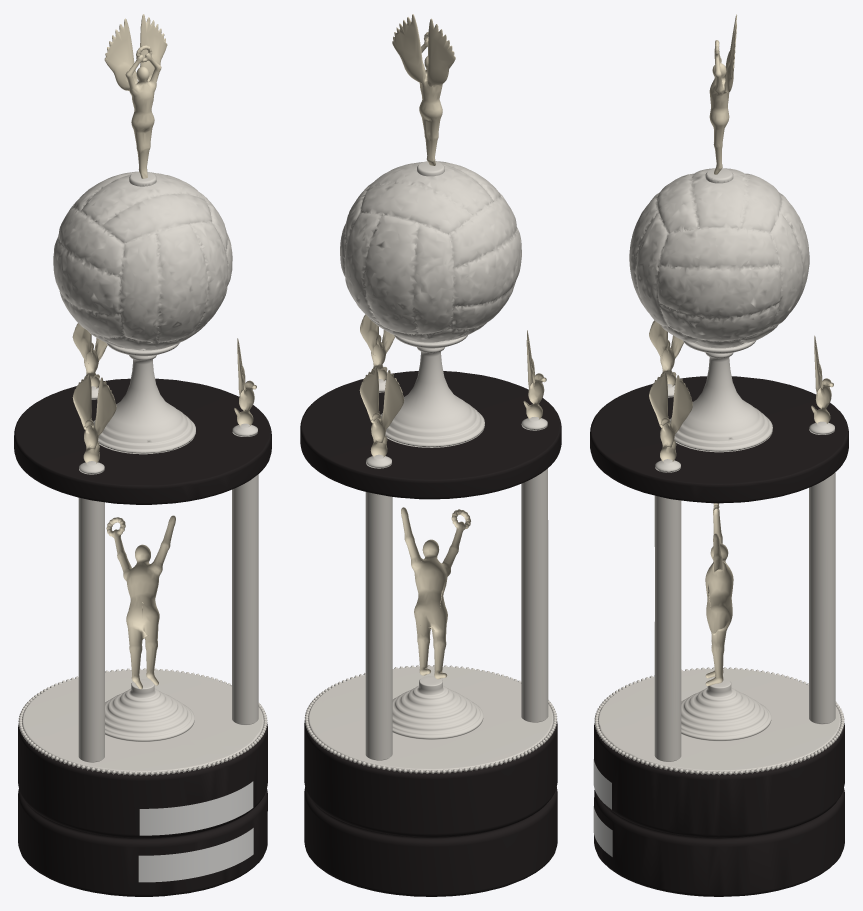
Rendered from copa-campeon-colombiano.glb.
The picture shows the model from 3 angles, left to right: view 1: azimuth 30°, elevation 25°; view 2: azimuth 150°, elevation 25°; view 3: azimuth 270°, elevation 25°; orthographic projection.
Visible parts, largest first — view 1: Balon, Base_negra, Disco_negro, Columnas, Plato_plateado, Pedestal_balon, Atleta, Victoria_alada, Pedestal_atleta, Aguilas, Placa_campeon, Placa_club (+2 smaller); view 2: Base_negra, Balon, Disco_negro, Columnas, Plato_plateado, Pedestal_balon, Atleta, Pedestal_atleta, Victoria_alada, Aguilas, Borde_perlas, Bases_aguilas; view 3: Base_negra, Balon, Disco_negro, Columnas, Plato_plateado, Pedestal_balon, Pedestal_atleta, Aguilas, Atleta, Victoria_alada, Borde_perlas, Bases_aguilas (+2 smaller).
Part boxes in pixels (x1=…): Balon: x1=53, y1=171, x2=232, y2=350; Base_negra: x1=18, y1=724, x2=267, y2=896; Disco_negro: x1=14, y1=378, x2=271, y2=504; Columnas: x1=78, y1=474, x2=258, y2=762; Plato_plateado: x1=22, y1=669, x2=263, y2=774; Pedestal_balon: x1=93, y1=343, x2=195, y2=454; Atleta: x1=106, y1=515, x2=175, y2=689; Victoria_alada: x1=104, y1=14, x2=167, y2=178; Pedestal_atleta: x1=105, y1=679, x2=194, y2=741; Aguilas: x1=72, y1=323, x2=256, y2=463; Placa_campeon: x1=138, y1=828, x2=253, y2=882; Placa_club: x1=139, y1=781, x2=253, y2=835; Base_negra: x1=304, y1=721, x2=557, y2=896; Balon: x1=340, y1=161, x2=521, y2=342; Disco_negro: x1=300, y1=371, x2=561, y2=499; Columnas: x1=365, y1=468, x2=548, y2=760; Plato_plateado: x1=308, y1=666, x2=553, y2=772; Pedestal_balon: x1=381, y1=335, x2=484, y2=447; Atleta: x1=401, y1=507, x2=470, y2=679; Pedestal_atleta: x1=392, y1=676, x2=483, y2=739; Victoria_alada: x1=392, y1=14, x2=455, y2=165; Aguilas: x1=359, y1=314, x2=546, y2=457; Borde_perlas: x1=304, y1=665, x2=557, y2=773; Bases_aguilas: x1=366, y1=379, x2=547, y2=468; Base_negra: x1=594, y1=723, x2=844, y2=896; Balon: x1=629, y1=168, x2=809, y2=348; Disco_negro: x1=590, y1=376, x2=848, y2=503; Columnas: x1=654, y1=472, x2=835, y2=761; Plato_plateado: x1=598, y1=668, x2=840, y2=773; Pedestal_balon: x1=669, y1=340, x2=772, y2=452; Pedestal_atleta: x1=681, y1=678, x2=771, y2=741; Aguilas: x1=649, y1=320, x2=833, y2=461; Atleta: x1=705, y1=503, x2=733, y2=686; Victoria_alada: x1=709, y1=14, x2=736, y2=174; Borde_perlas: x1=594, y1=667, x2=844, y2=775; Bases_aguilas: x1=655, y1=384, x2=834, y2=472.
Bounding box in the file's own units: 0.213 × 0.75 × 0.213.
